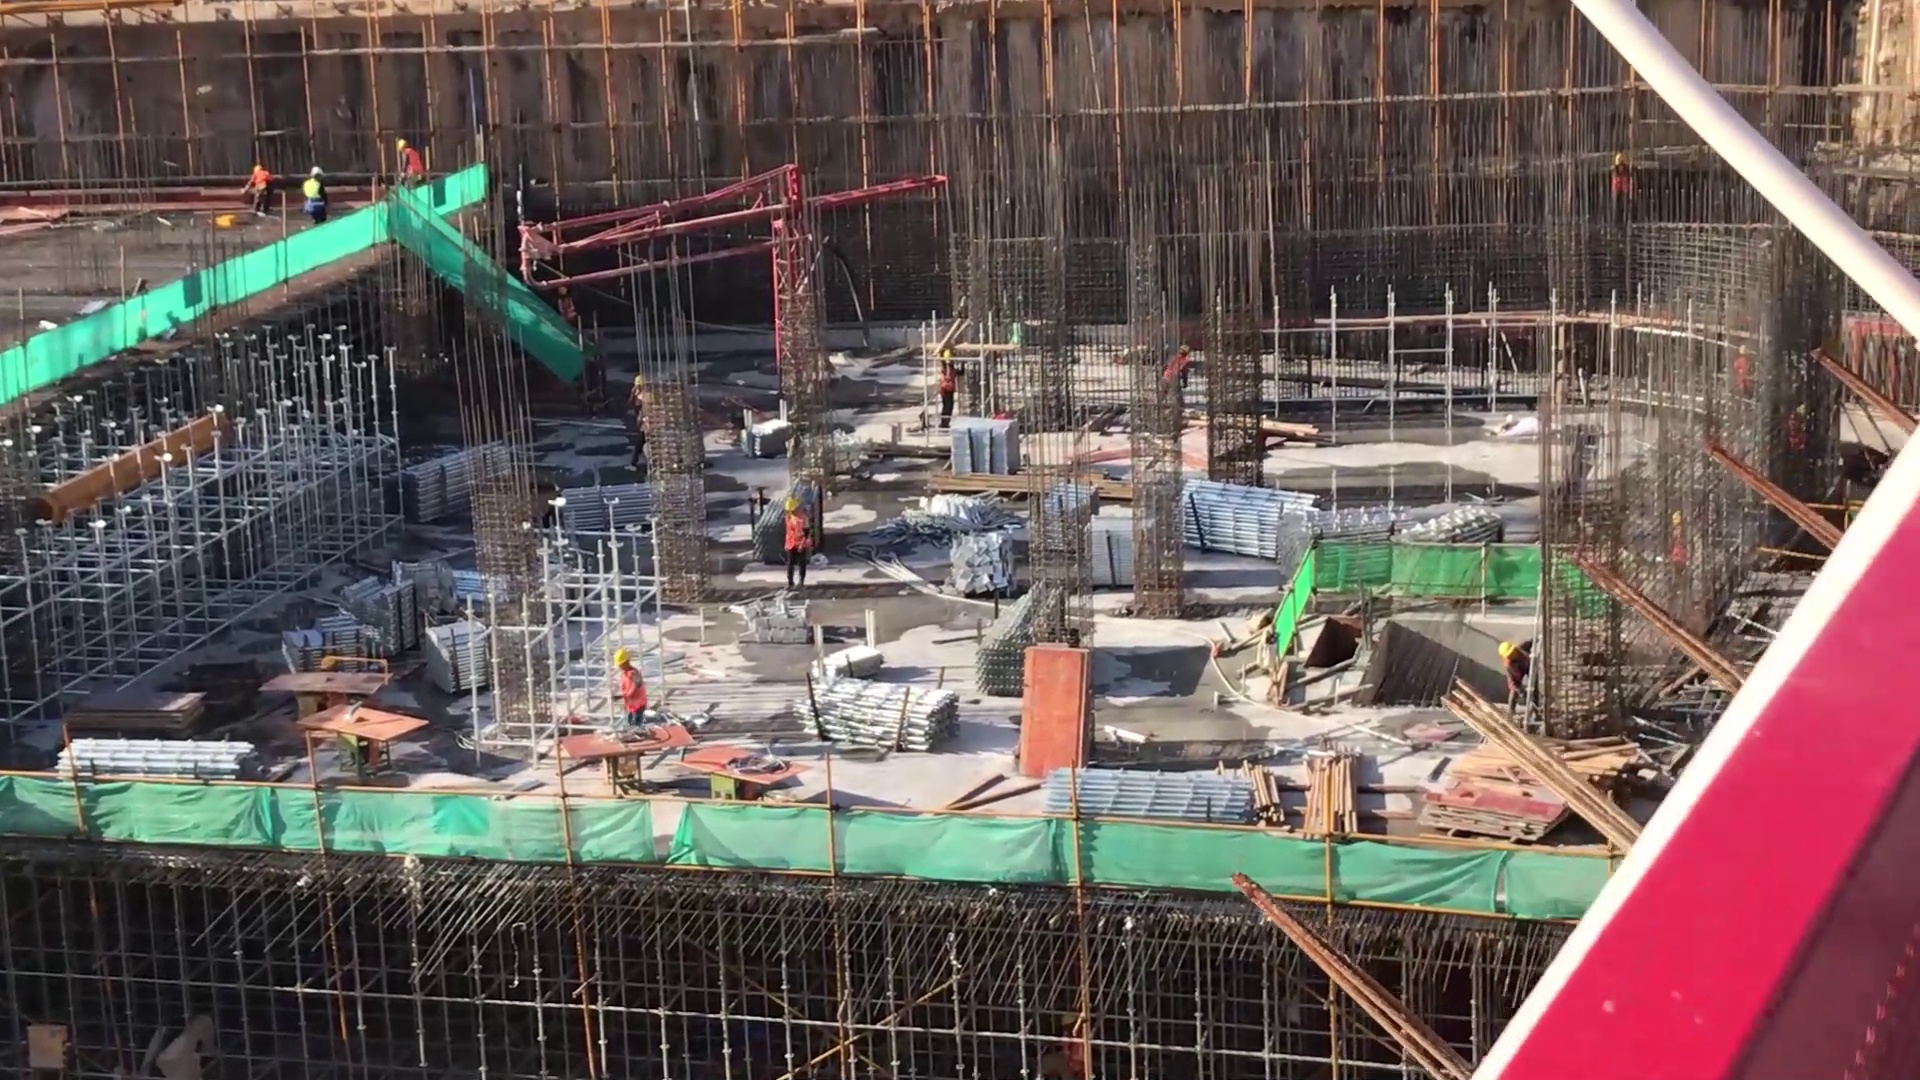helmet: (779, 493, 802, 516), (393, 138, 417, 159), (1490, 641, 1516, 659), (611, 644, 632, 663), (936, 347, 956, 366), (305, 162, 325, 179)
person: (1497, 633, 1541, 724), (609, 646, 652, 733), (779, 497, 815, 594), (625, 393, 660, 471), (1601, 149, 1634, 209), (1160, 342, 1193, 400), (389, 137, 426, 188), (239, 165, 274, 216), (300, 162, 330, 224), (936, 348, 957, 432), (1727, 339, 1758, 396), (1666, 506, 1691, 574), (552, 283, 581, 330), (626, 373, 655, 412)
vest: (615, 668, 646, 721), (786, 516, 809, 549), (402, 152, 421, 179), (937, 363, 954, 392), (304, 179, 320, 201)
